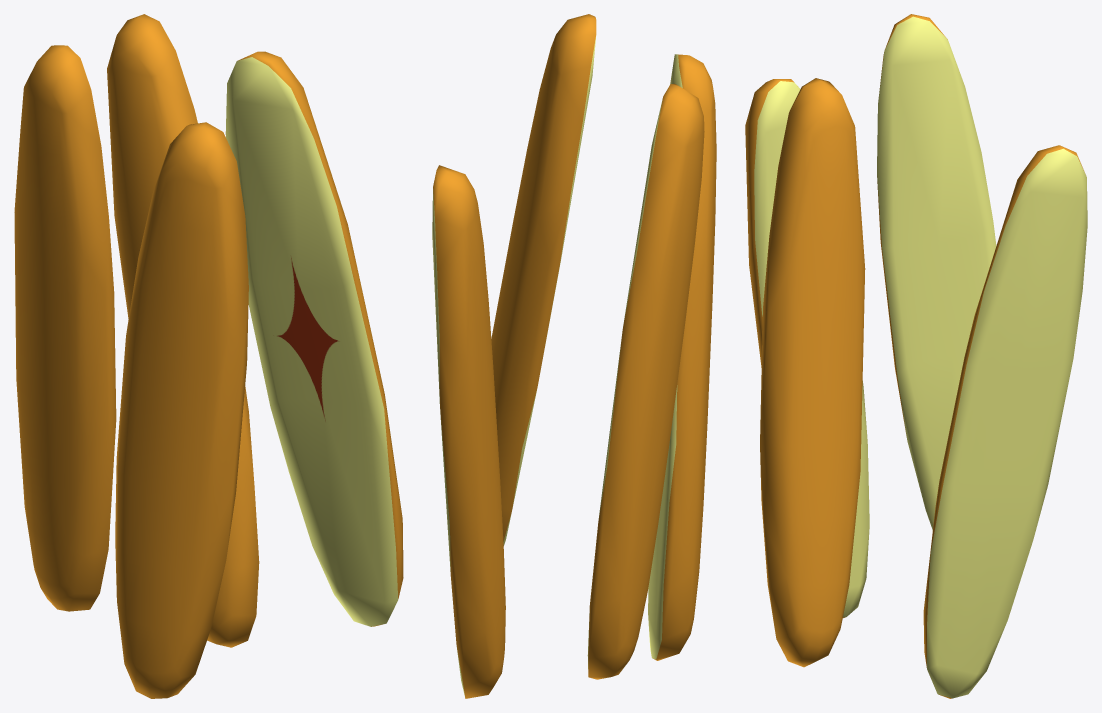
File: yoot-animation-2-korean.glb
The picture shows the model from 3 angles, left to right: view 1: azimuth 30°, elevation 25°; view 2: azimuth 150°, elevation 25°; view 3: azimuth 270°, elevation 25°; orthographic projection. The views are drawn at different scales.
Visible parts, largest first — view 1: yoot1, yoot0, yoot2, yoot3; view 2: yoot2, yoot3, yoot0, yoot1; view 3: yoot3, yoot0, yoot2, yoot1.
Boxes of the visible parts, x1,y1,x2,y2 form: yoot1: [115, 122, 248, 698]; yoot0: [225, 51, 403, 626]; yoot2: [14, 45, 116, 611]; yoot3: [107, 14, 259, 647]; yoot2: [587, 83, 704, 679]; yoot3: [432, 165, 505, 698]; yoot0: [491, 14, 596, 545]; yoot1: [648, 54, 716, 660]; yoot3: [923, 145, 1087, 698]; yoot0: [760, 78, 865, 667]; yoot2: [877, 14, 996, 530]; yoot1: [745, 79, 869, 618].
Bounding box in the file's own units: 6.57 × 13.74 × 7.1.
Materials: 4 (4 with a texture image).
